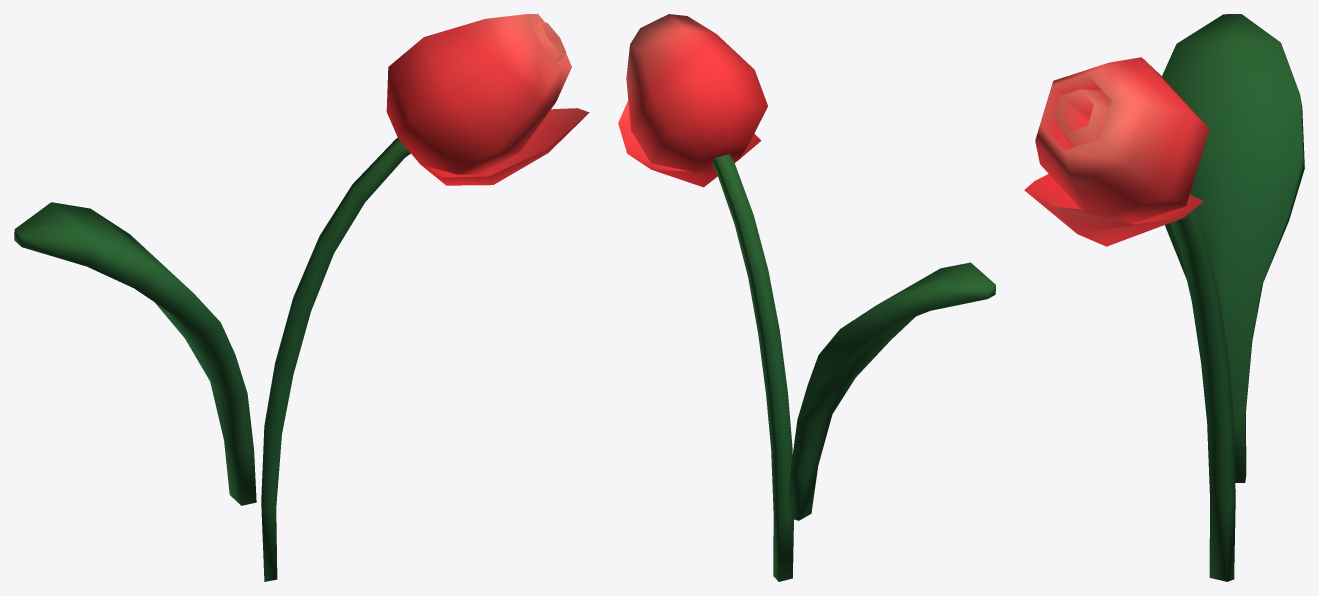
Rendered from tulip.fbx.
The picture shows the model from 3 angles, left to right: view 1: azimuth 30°, elevation 25°; view 2: azimuth 150°, elevation 25°; view 3: azimuth 270°, elevation 25°; orthographic projection. The views are drawn at different scales.
Visible parts, largest first — view 1: Cylinder.031; view 2: Cylinder.031; view 3: Cylinder.031.
Boxes of the visible parts, box(x1,y1,x2,y2) form: Cylinder.031: box(14, 14, 589, 581); Cylinder.031: box(618, 14, 995, 581); Cylinder.031: box(1024, 14, 1304, 581).
Bounding box in the file's own units: 16.27 × 17.83 × 7.46.
